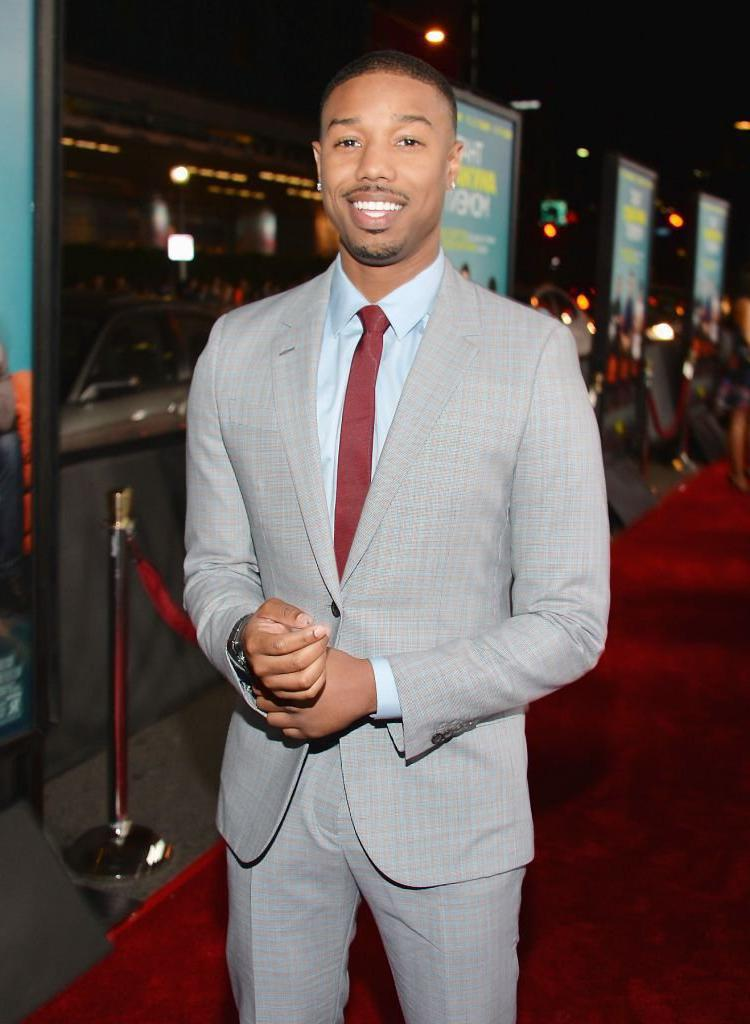Sober: (313, 86, 441, 251)
